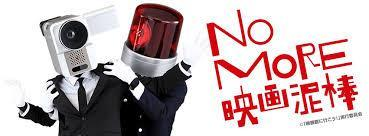no more kid: (36, 2, 120, 75)
